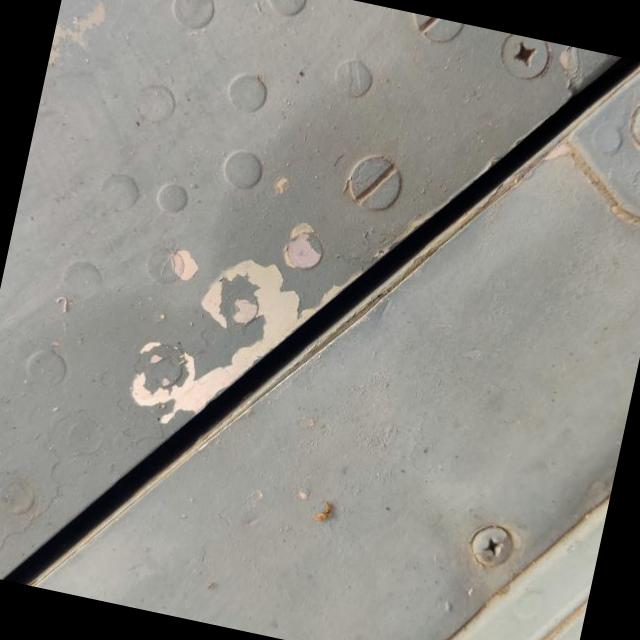paint-off: (100, 189, 374, 472)
